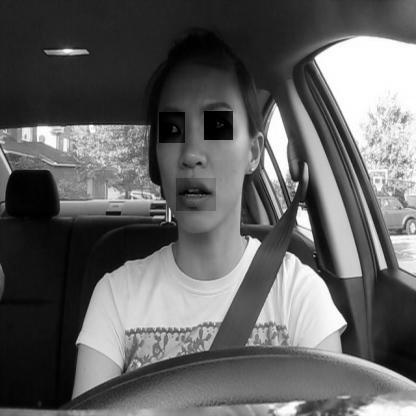seatbelt: (124, 18, 279, 346)
